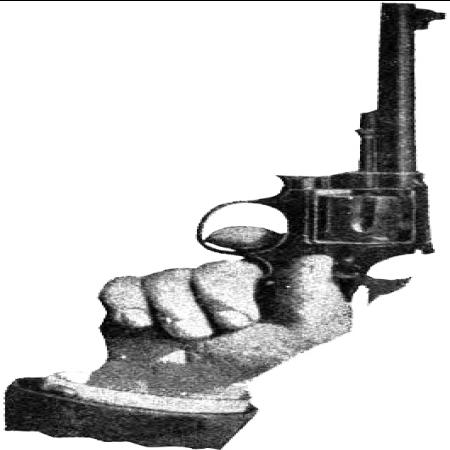Pistol: (93, 2, 446, 344)
